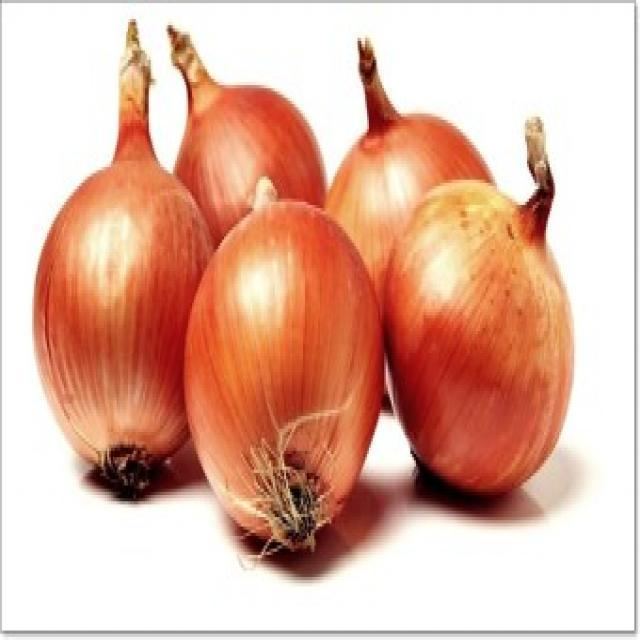onion: (32, 23, 221, 503), (181, 180, 386, 560), (383, 119, 576, 501), (324, 39, 496, 307), (170, 30, 329, 247)
